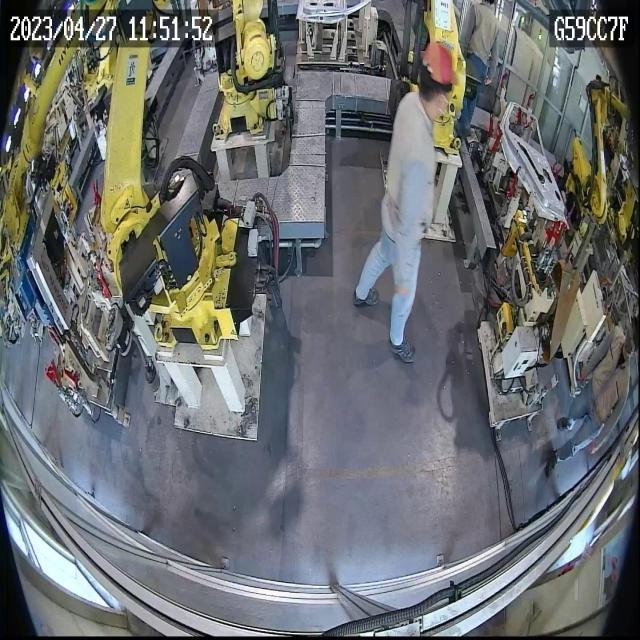Person: (352, 41, 457, 364), (452, 0, 499, 140)
